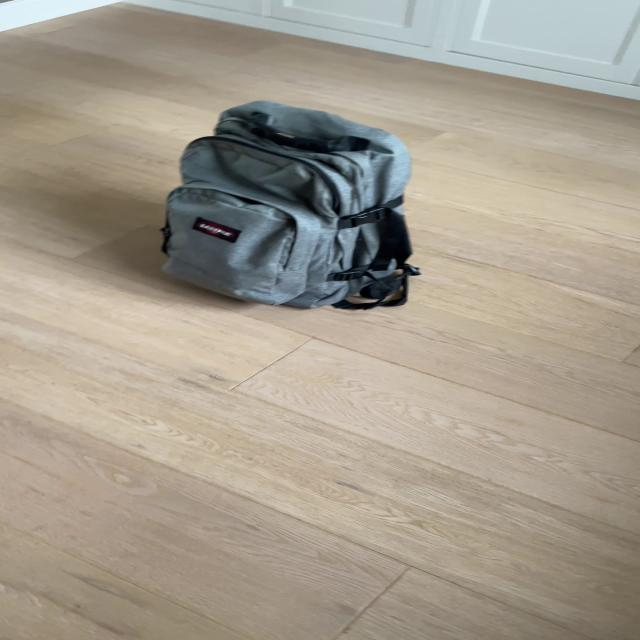backpack: (148, 90, 427, 318)
